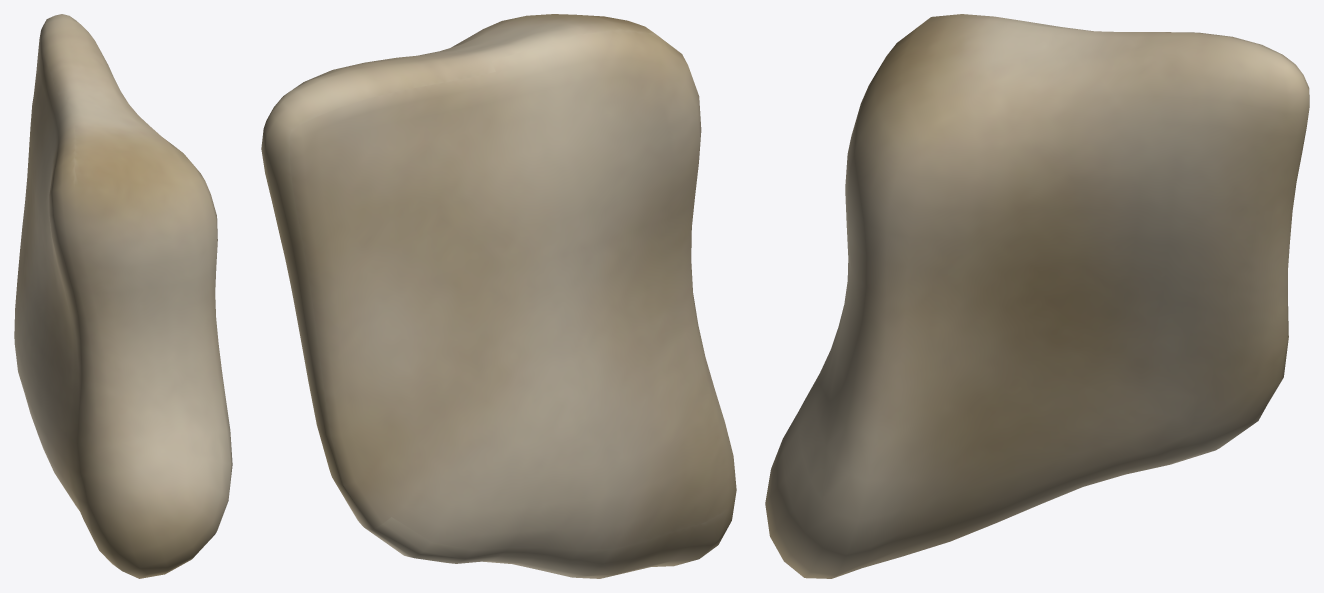
Rendered from R tarsi tertium.fbx.
3 renders of one model, left to right at view 1: azimuth 30°, elevation 25°; view 2: azimuth 150°, elevation 25°; view 3: azimuth 270°, elevation 25°, orthographic. The views are drawn at different scales.
Visible parts, largest first — view 1: R tarsi tertium; view 2: R tarsi tertium; view 3: R tarsi tertium.
Boxes of the visible parts, bbox=[...] form: R tarsi tertium: bbox=[14, 14, 232, 578]; R tarsi tertium: bbox=[261, 14, 736, 578]; R tarsi tertium: bbox=[765, 14, 1309, 578].
Bounding box in the file's own units: 1.61 × 4.04 × 3.52.
